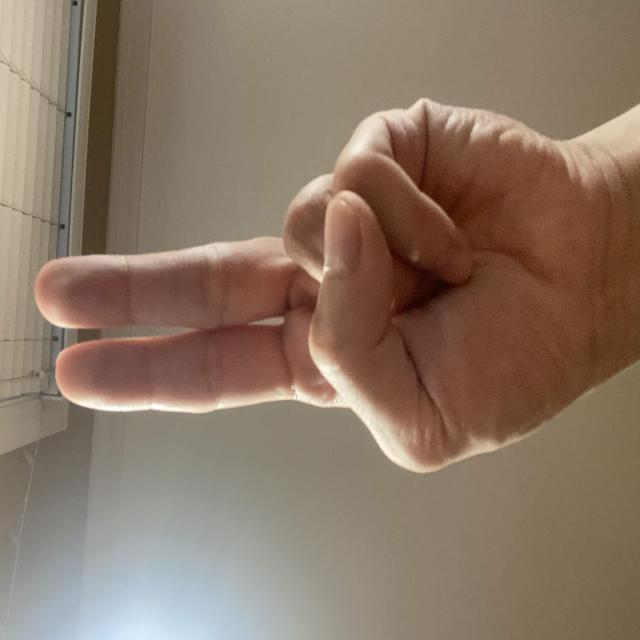U: (109, 30, 412, 640)
